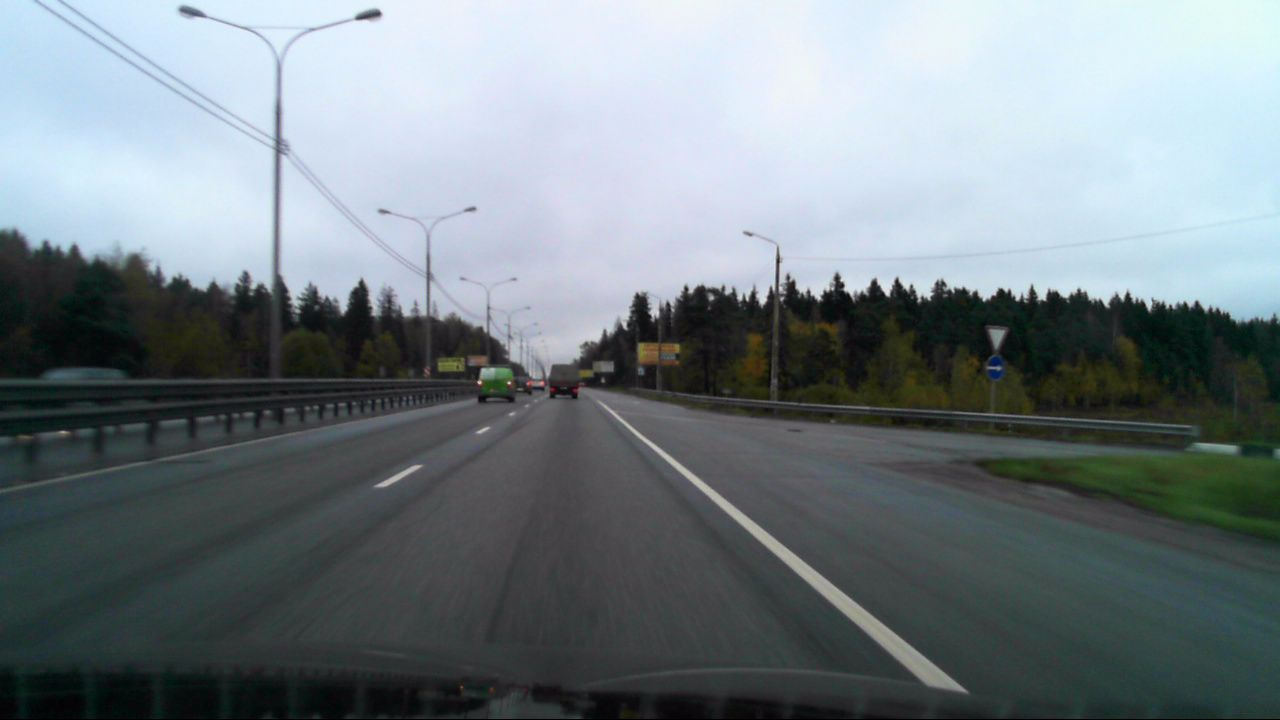Turn Right: (986, 355, 1006, 382)
